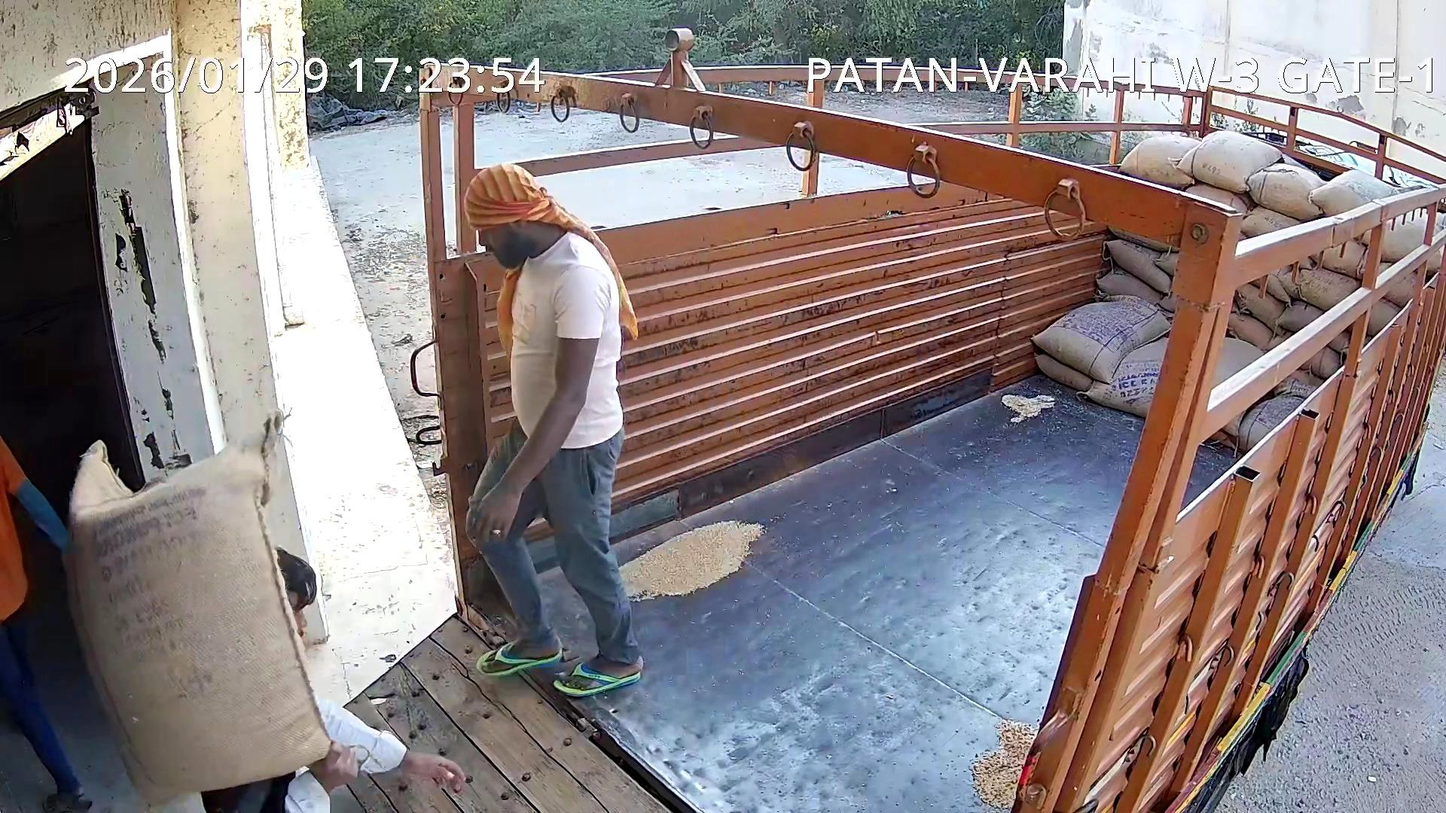Sack: (68, 413, 328, 802)
